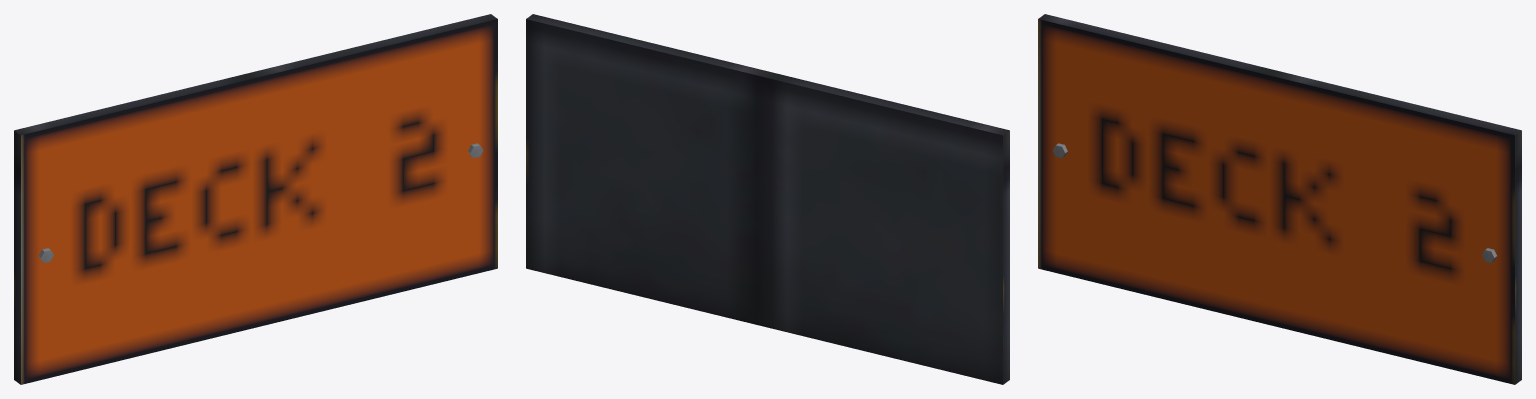
Rendered from sign_deck.fbx.
The picture shows the model from 3 angles, left to right: view 1: azimuth 30°, elevation 25°; view 2: azimuth 150°, elevation 25°; view 3: azimuth 330°, elevation 25°; orthographic projection.
Parts seen in each view (by area): view 1: sign_deck; view 2: sign_deck; view 3: sign_deck.
Boxes of the visible parts, box(x1,y1,x2,y2) form: sign_deck: box(14, 14, 497, 384); sign_deck: box(526, 14, 1009, 384); sign_deck: box(1038, 14, 1521, 384).
Size of the model in its own units: 0.6 by 0.3 by 0.0215.
